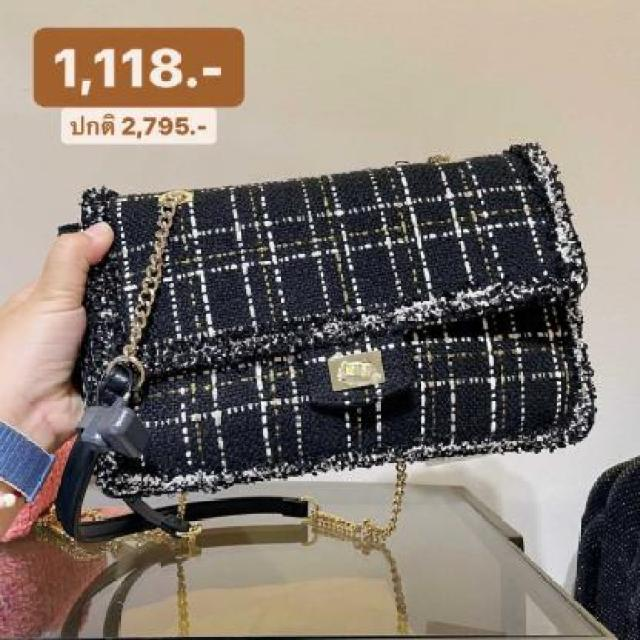Bag: (49, 141, 625, 527)
